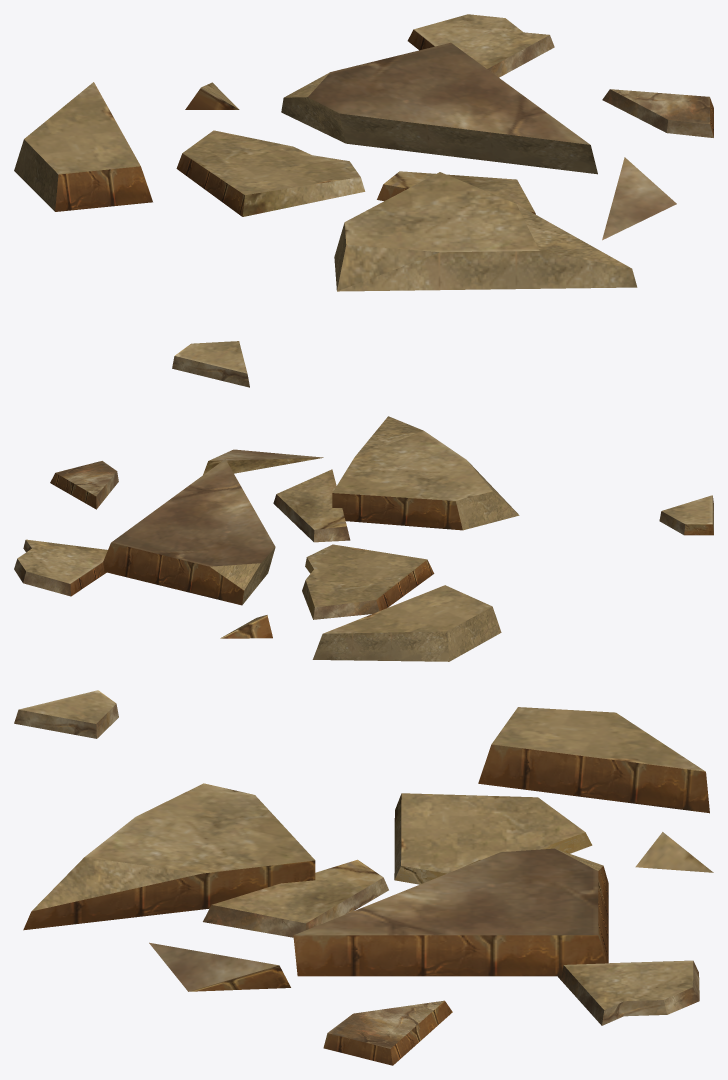
The model's file is Gobi_Rock01.FBX.
3 views of the same model, one above another, from view 1: azimuth 30°, elevation 25°; view 2: azimuth 150°, elevation 25°; view 3: azimuth 270°, elevation 25° (orthographic). The views are drawn at different scales.
Visible parts, largest first — view 1: Gobi_Rock01; view 2: Gobi_Rock01; view 3: Gobi_Rock01.
Part boxes in pixels (x1=…): Gobi_Rock01: x1=14, y1=14, x2=713, y2=387; Gobi_Rock01: x1=14, y1=416, x2=713, y2=661; Gobi_Rock01: x1=14, y1=690, x2=713, y2=1065.
Size of the model in its own units: 728 by 40.54 by 598.
